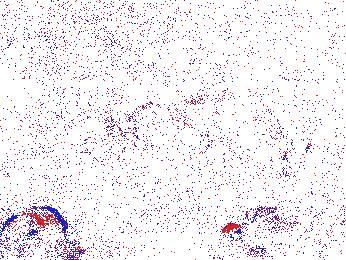flame jellyfish: (217, 205, 301, 260), (1, 213, 60, 260)
